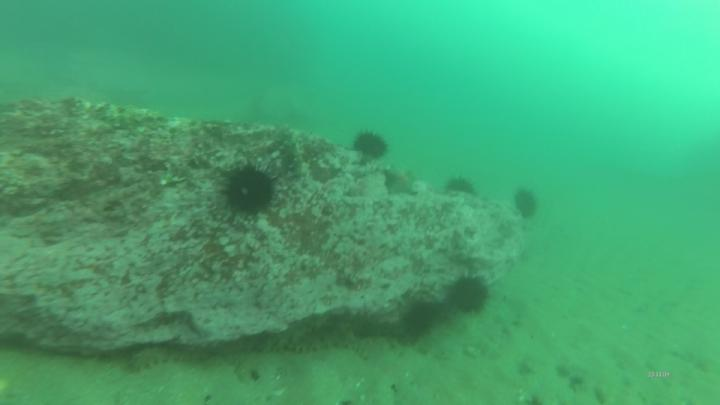echinus: (214, 157, 288, 231), (447, 271, 497, 322), (396, 292, 444, 343), (352, 128, 392, 163), (513, 185, 544, 223), (445, 172, 479, 197)
holothurian: (122, 343, 209, 378), (288, 322, 357, 356)
starfish: (379, 169, 423, 199)
